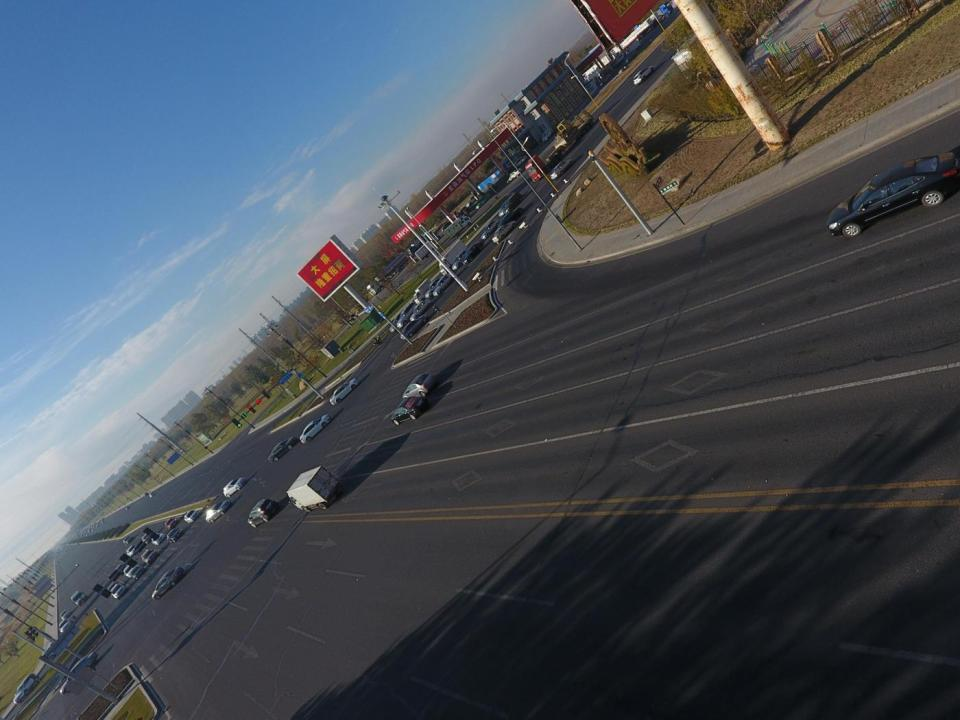car: (826, 151, 960, 238), (59, 652, 99, 695), (391, 396, 428, 425), (152, 567, 184, 600), (402, 373, 437, 400), (300, 414, 331, 444), (249, 498, 279, 527), (267, 436, 297, 464), (13, 672, 39, 704), (401, 313, 430, 341), (330, 378, 359, 405), (396, 302, 420, 328), (497, 207, 524, 229), (492, 220, 517, 243), (409, 298, 433, 321), (433, 272, 455, 296), (424, 276, 447, 298), (206, 501, 230, 522), (550, 158, 573, 179), (462, 243, 484, 264), (452, 249, 474, 270), (223, 477, 246, 497), (44, 638, 62, 662), (633, 65, 654, 85), (482, 219, 501, 240), (498, 197, 518, 216), (140, 548, 158, 564), (110, 584, 127, 600), (166, 528, 182, 543), (506, 168, 522, 182), (476, 194, 490, 210), (59, 618, 73, 633), (184, 510, 200, 523), (130, 566, 146, 578), (466, 193, 479, 207), (151, 532, 165, 545), (140, 532, 154, 543), (126, 545, 140, 556), (599, 74, 611, 86), (123, 565, 134, 578), (165, 518, 179, 528), (613, 54, 625, 65), (115, 563, 126, 575), (515, 156, 527, 166), (61, 610, 72, 619), (123, 536, 133, 544), (489, 183, 496, 191), (458, 207, 469, 212), (148, 492, 155, 498), (100, 520, 106, 524), (143, 493, 148, 497), (126, 507, 130, 510)
truck: (525, 108, 595, 182), (287, 466, 342, 512), (366, 252, 409, 296), (634, 2, 675, 39), (438, 239, 469, 275), (406, 230, 434, 256), (413, 278, 437, 304), (444, 217, 472, 239), (415, 240, 438, 261), (542, 125, 558, 141), (625, 40, 641, 54)
van: (390, 308, 412, 331), (504, 191, 523, 214), (71, 591, 87, 605), (623, 50, 637, 65), (510, 156, 524, 166)
